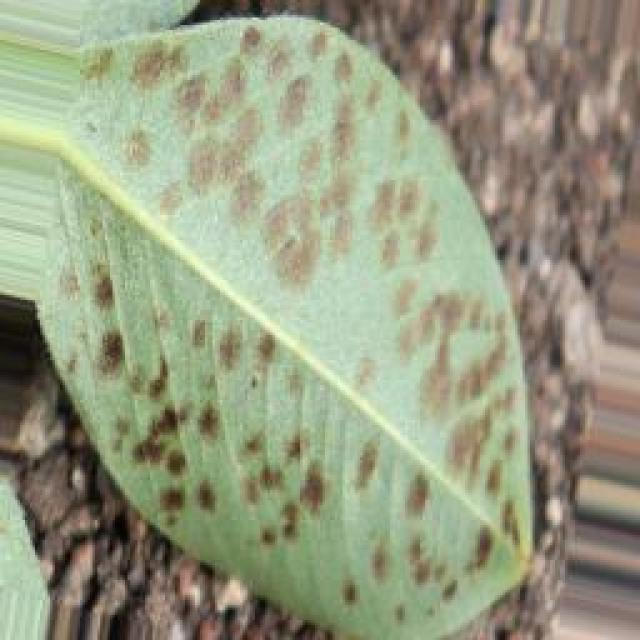Whitefly: (0, 0, 552, 627)
